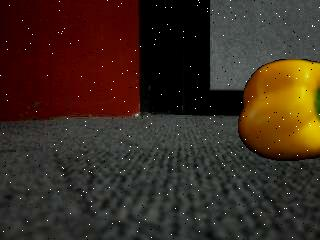Capsicum: (235, 56, 320, 164)
